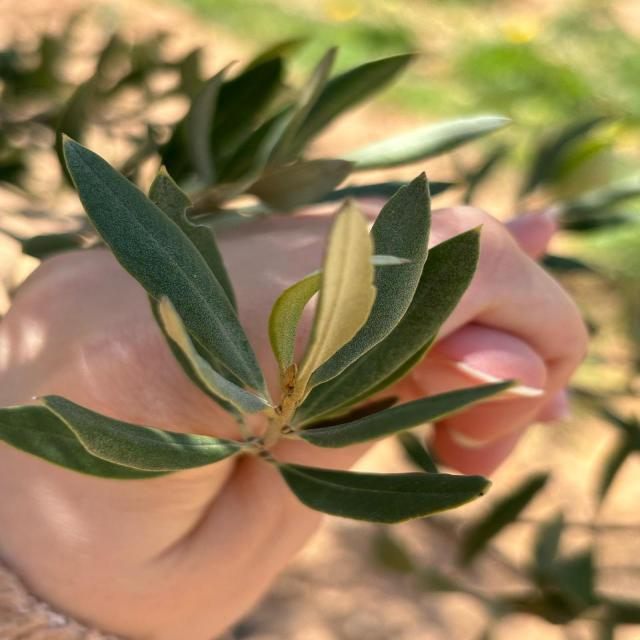Healthy: (63, 135, 260, 390), (280, 464, 489, 524)
